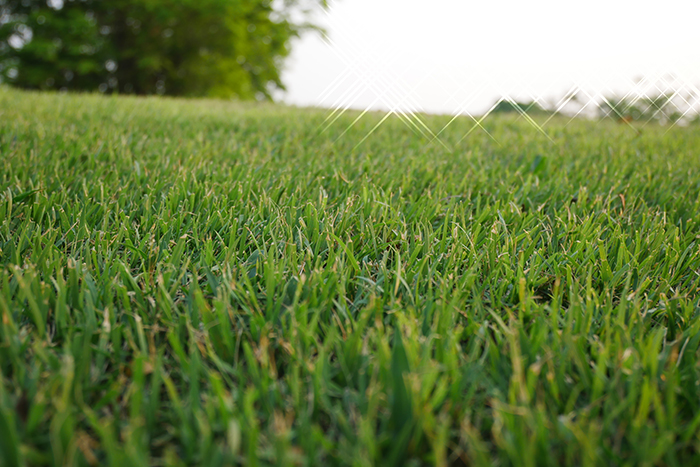grass: (1, 111, 700, 467)
